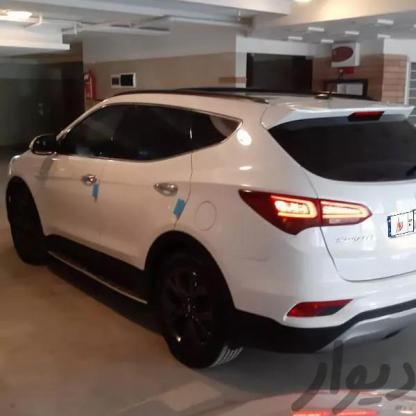Car: (0, 92, 416, 369)
